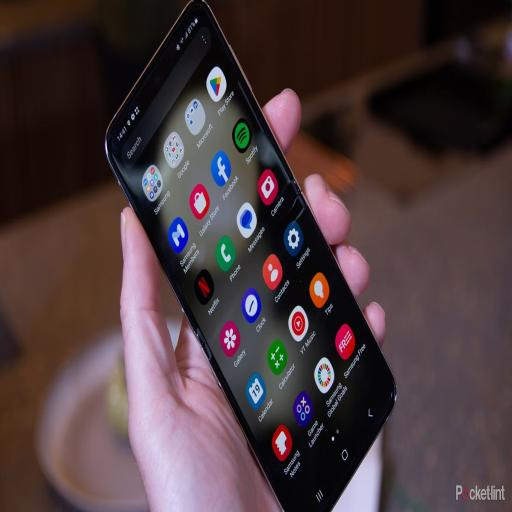phone: (104, 3, 397, 511)
